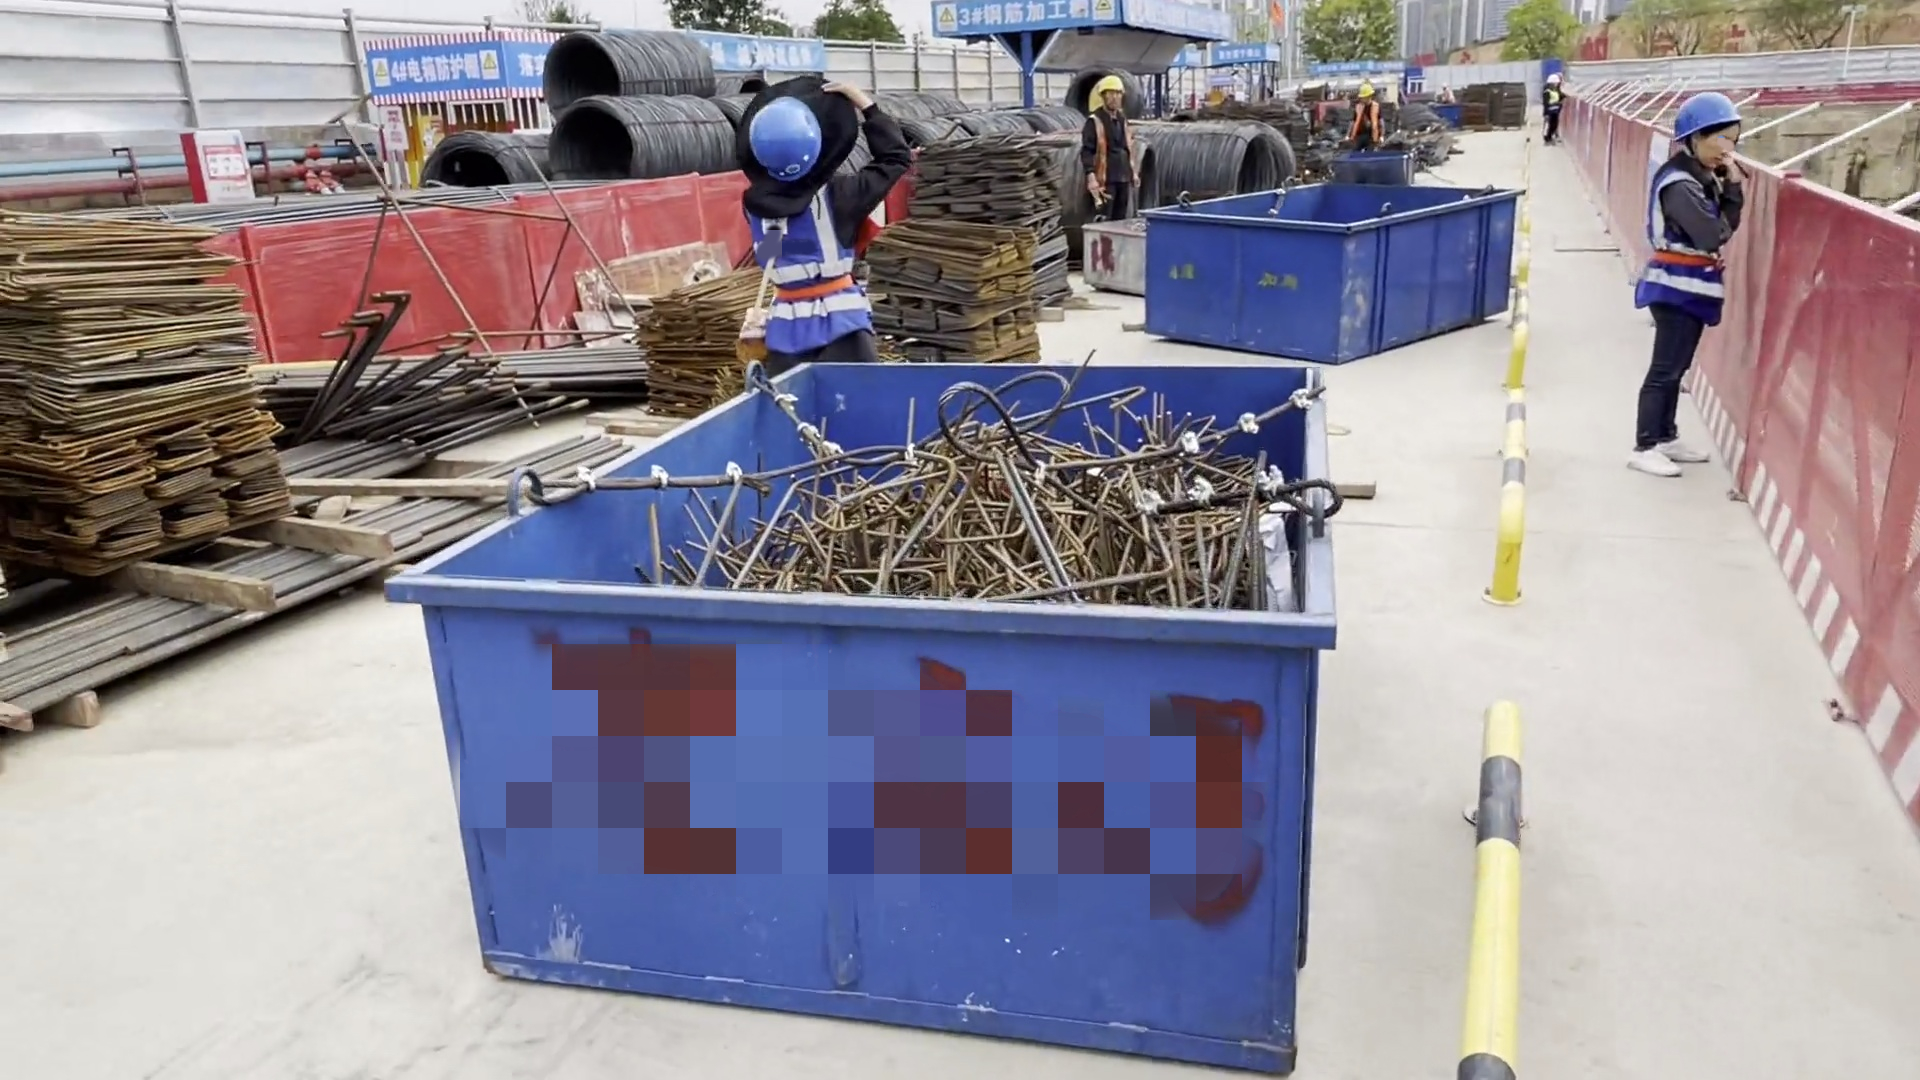fence: (1752, 123, 1920, 883), (26, 12, 317, 144)
helmet: (749, 104, 821, 179), (1659, 91, 1741, 141), (1092, 76, 1125, 92), (1358, 80, 1373, 93), (1544, 74, 1563, 83)
hopper: (391, 360, 1333, 1054), (1145, 173, 1525, 356), (1078, 220, 1169, 295), (1331, 136, 1434, 183)
person: (733, 91, 919, 373), (1627, 78, 1740, 481), (1075, 66, 1145, 211), (1349, 71, 1391, 161), (1536, 71, 1570, 144), (1438, 84, 1456, 103)
rebar: (1, 508, 386, 739), (258, 299, 639, 440)
slogan: (383, 41, 497, 93), (712, 31, 835, 72), (955, 1, 1105, 33), (1134, 12, 1228, 34), (1218, 45, 1263, 61)
vest: (750, 184, 862, 352), (1637, 164, 1718, 312), (1088, 113, 1128, 182), (1356, 103, 1382, 142), (1543, 90, 1561, 117)
